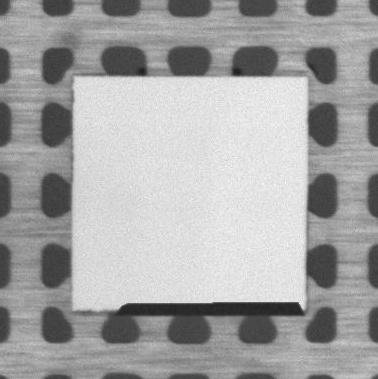DIE_BROKEN: (119, 298, 304, 317)
